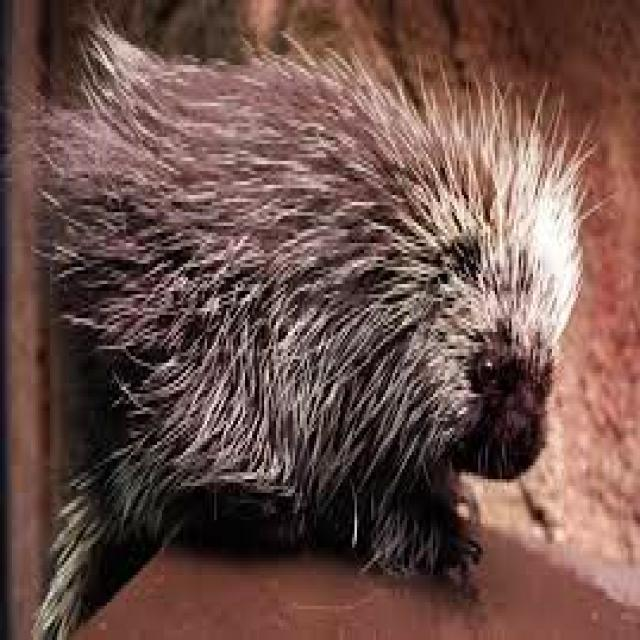porcupine: (38, 24, 581, 637)
